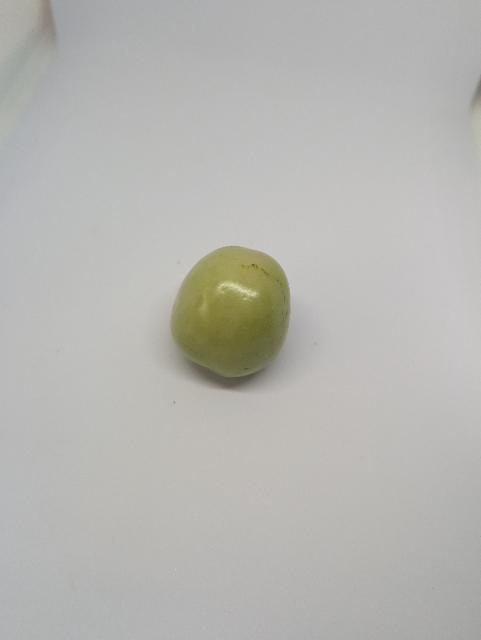green: (170, 245, 295, 379)
